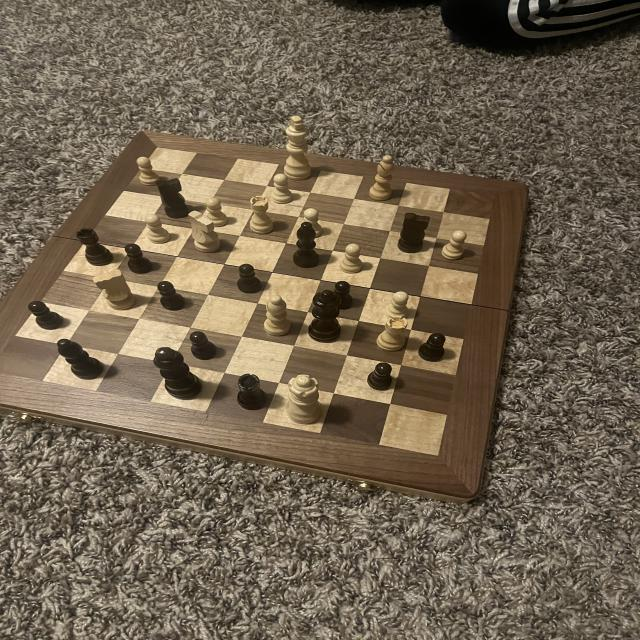bishop: (56, 338, 110, 383), (290, 222, 322, 271)
black-bishop: (151, 345, 205, 401)
black-king: (154, 173, 189, 220), (395, 211, 432, 255)
black-knight: (23, 298, 68, 330), (185, 328, 219, 362), (154, 280, 187, 314), (416, 332, 449, 365), (236, 263, 266, 296), (124, 243, 154, 275), (366, 363, 396, 395), (331, 279, 358, 312)
black-pawn: (306, 288, 343, 344)
black-queen: (75, 227, 117, 267), (236, 372, 274, 413)
black-rook: (366, 153, 400, 204), (260, 292, 294, 338)
white-bishop: (278, 112, 317, 182)
white-king: (91, 267, 140, 313), (188, 208, 224, 256)
white-knight: (438, 228, 472, 264), (335, 240, 367, 275), (382, 289, 414, 322), (200, 196, 232, 228), (134, 154, 164, 188), (144, 212, 173, 245), (270, 169, 296, 205), (300, 206, 326, 239)
white-pawn: (280, 371, 326, 429)
white-queen: (373, 314, 414, 352), (246, 192, 277, 239)
